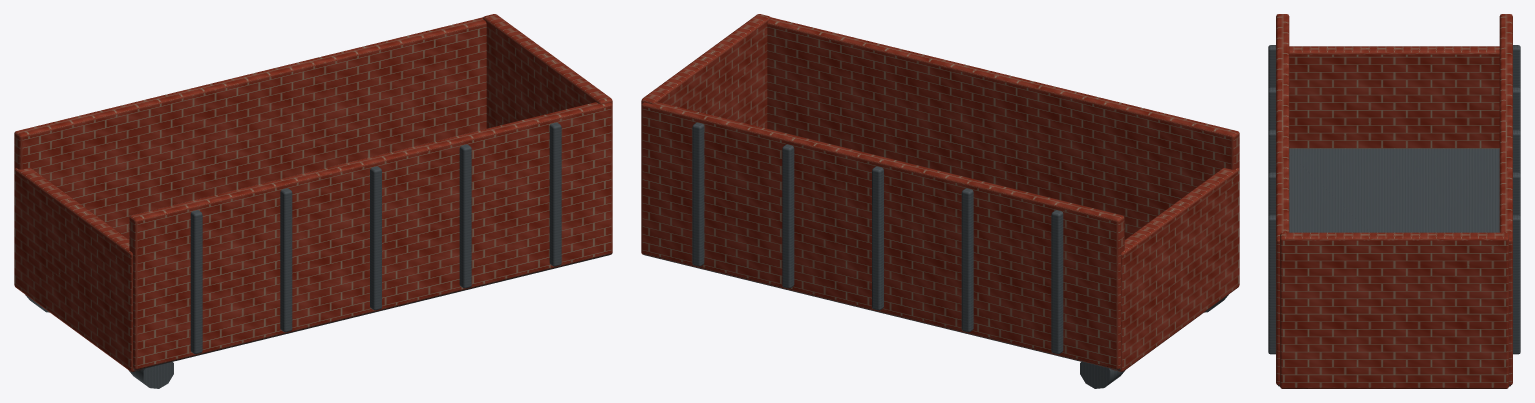
File: service-rolloff-container.lod0.gltf
3 views of the same model, side by side, from view 1: azimuth 30°, elevation 25°; view 2: azimuth 150°, elevation 25°; view 3: azimuth 270°, elevation 25° (orthographic). The views are drawn at different scales.
Parts seen in each view (by area): view 1: service-rolloff-container; view 2: service-rolloff-container; view 3: service-rolloff-container.
Boxes of the visible parts, x1,y1,x2,y2 form: service-rolloff-container: (14,14,612,388); service-rolloff-container: (641,14,1239,388); service-rolloff-container: (1268,14,1520,388).
Size of the model in its own units: 4.84 by 1.71 by 2.26.
Materials: 2 (2 with a texture image).
